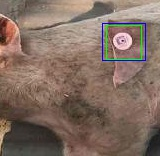text: (106, 25, 141, 59)
